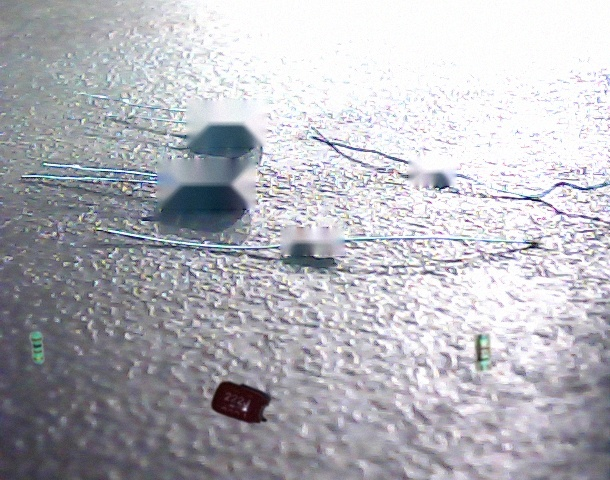capacitor: (211, 381, 271, 424)
resistor: (474, 333, 492, 371), (30, 332, 44, 364)
